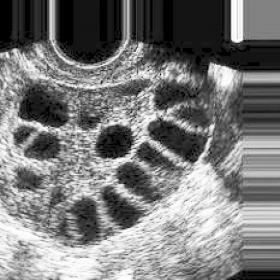PCOS: (146, 121, 205, 167), (13, 89, 72, 128), (137, 140, 182, 188), (100, 184, 136, 240), (119, 161, 154, 217), (97, 124, 134, 164), (151, 83, 200, 111), (71, 195, 99, 243), (26, 128, 62, 162), (174, 105, 211, 127), (16, 166, 46, 193), (118, 77, 152, 99), (8, 121, 36, 147), (78, 113, 103, 136)
